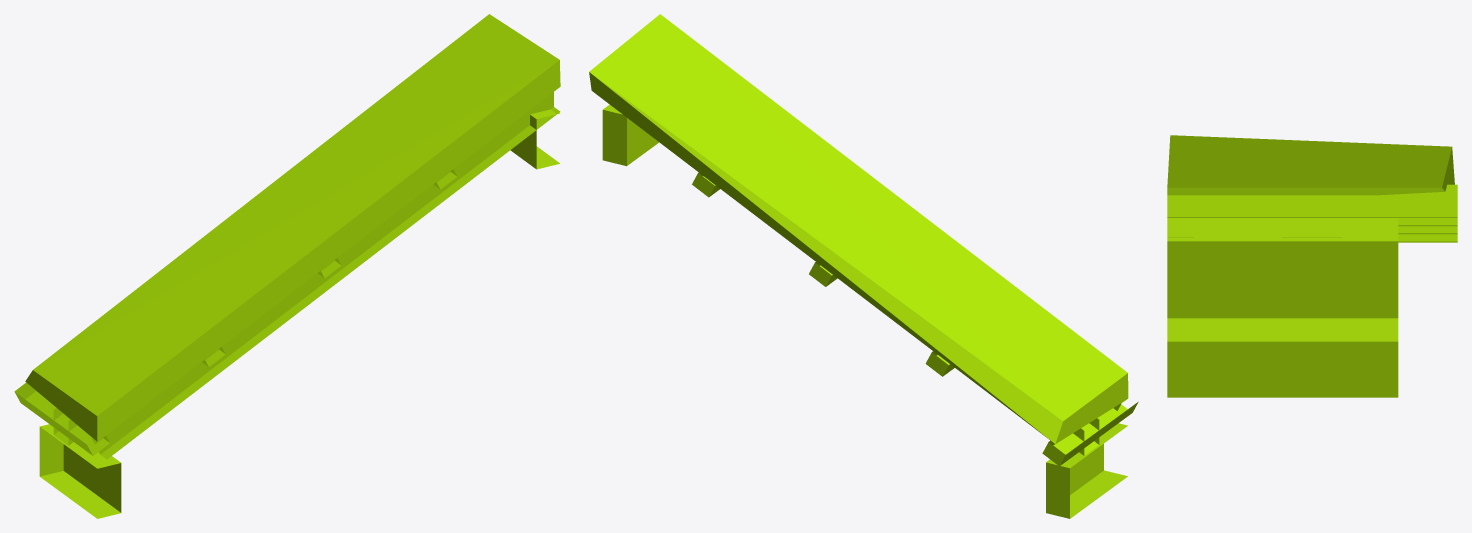
The model's file is WallKit_Verge_Right_COL.fbx.
3 renders of one model, left to right at view 1: azimuth 30°, elevation 25°; view 2: azimuth 150°, elevation 25°; view 3: azimuth 270°, elevation 25°, orthographic. The views are drawn at different scales.
Parts seen in each view (by area): view 1: WallKit_Verge_Right_COL; view 2: WallKit_Verge_Right_COL; view 3: WallKit_Verge_Right_COL.
Boxes of the visible parts, x1,y1,x2,y2 form: WallKit_Verge_Right_COL: (14, 14, 560, 518); WallKit_Verge_Right_COL: (589, 14, 1138, 518); WallKit_Verge_Right_COL: (1167, 135, 1457, 397).
Size of the model in its own units: 409 by 285 by 109.
